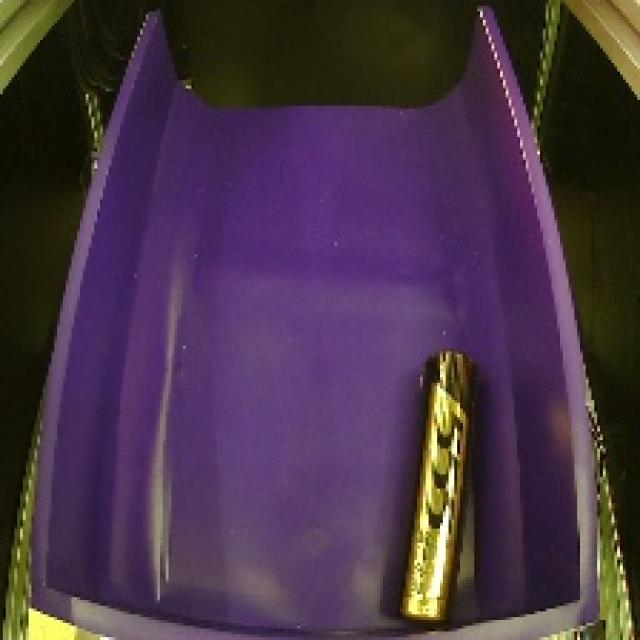battery: (381, 335, 482, 633)
